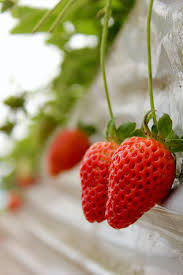ripe: (104, 137, 178, 233), (79, 139, 129, 224), (45, 125, 91, 177)
